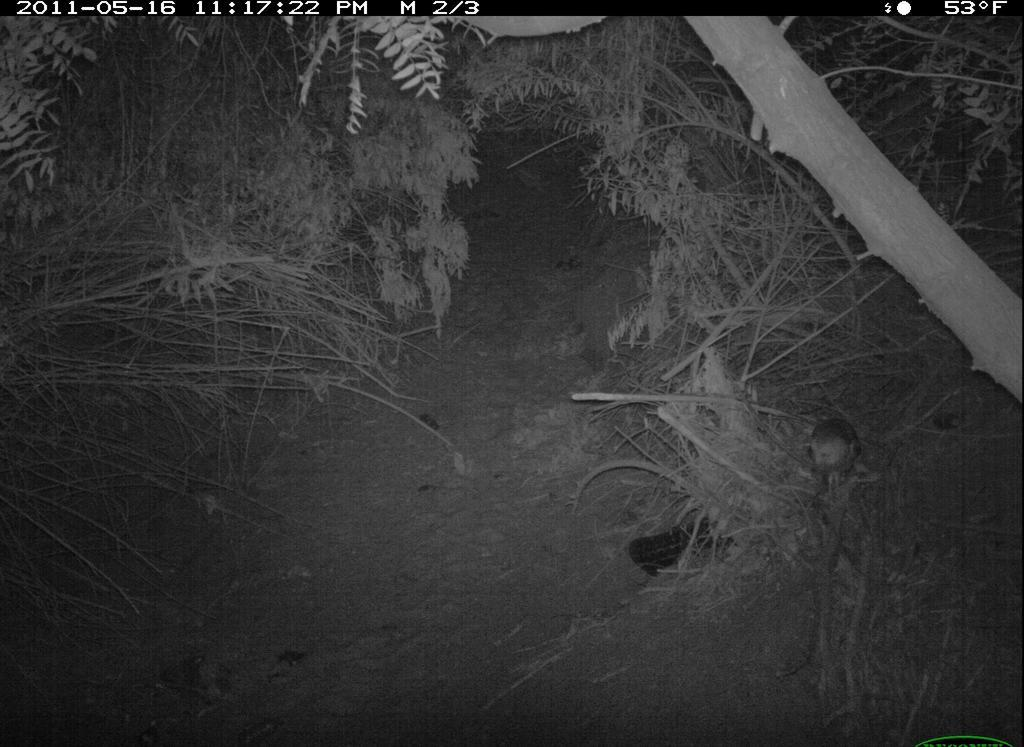bird: (805, 412, 866, 501)
